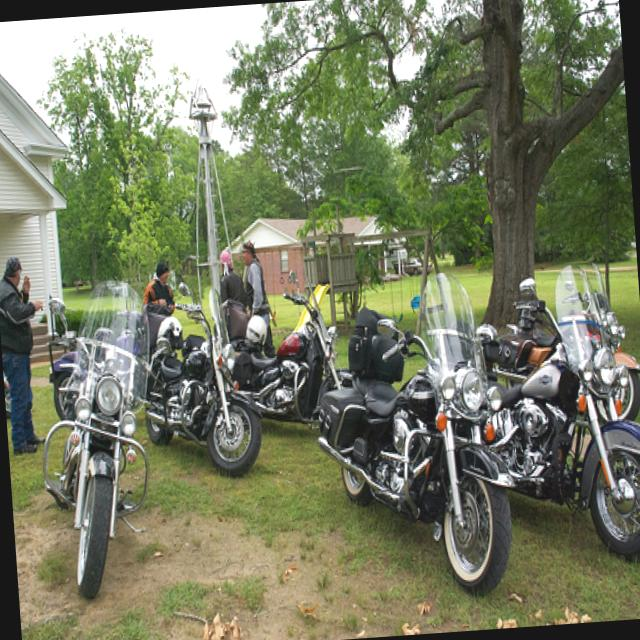Vehicle: (305, 270, 521, 608), (477, 257, 640, 570), (27, 280, 166, 602), (136, 279, 264, 482), (213, 269, 348, 433), (478, 296, 562, 388), (44, 340, 80, 416)
